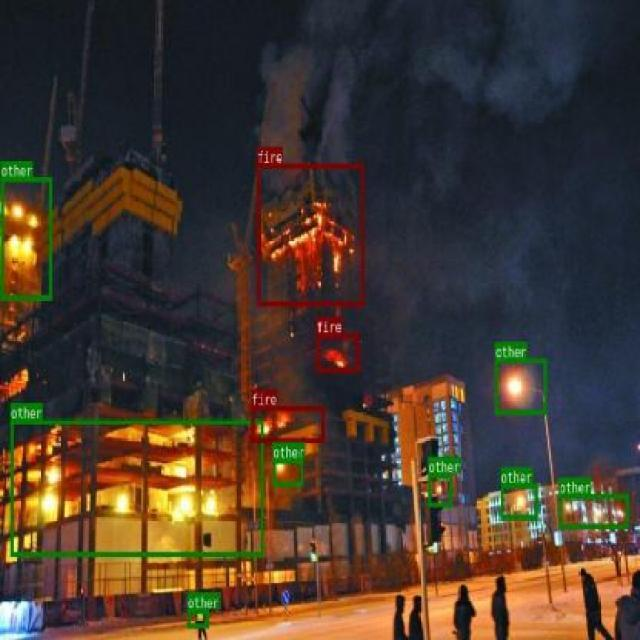fire: (256, 162, 362, 306), (250, 404, 324, 442), (316, 333, 358, 372)
